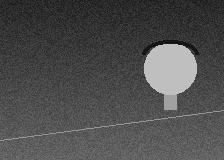no_helmet: (144, 40, 196, 99)
